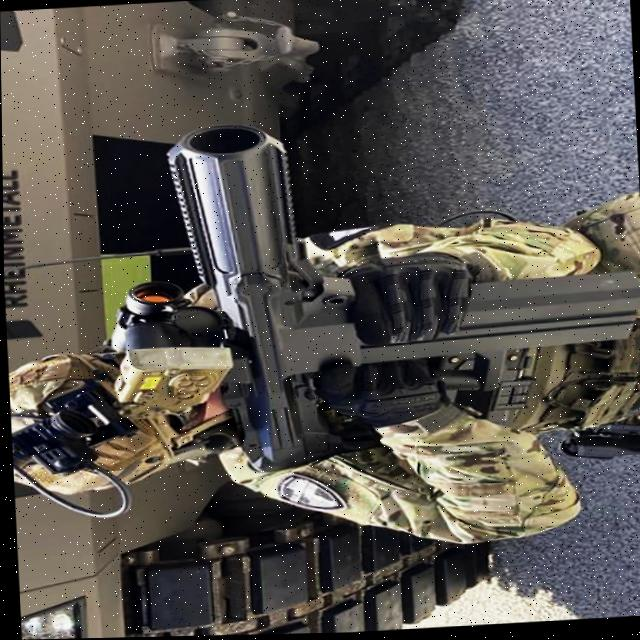firearm: (96, 103, 640, 481)
